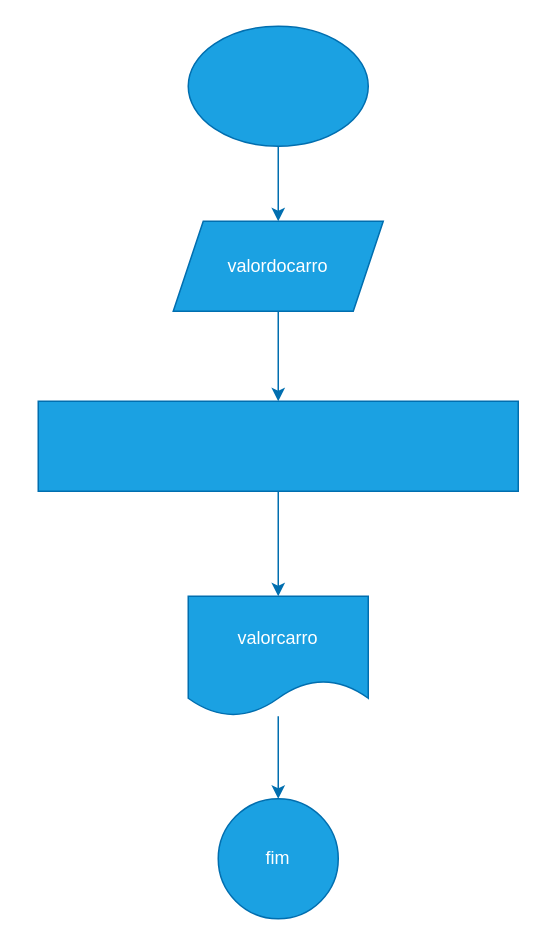
Some shapes in this 555 by 945 pixel diagram are drawn without their labels. The centre of each missing label's shape, as x and y in pixels:
início: (277,85)
valorcarro = (imposto * 28 / 100 ) + imposto: (277,445)
